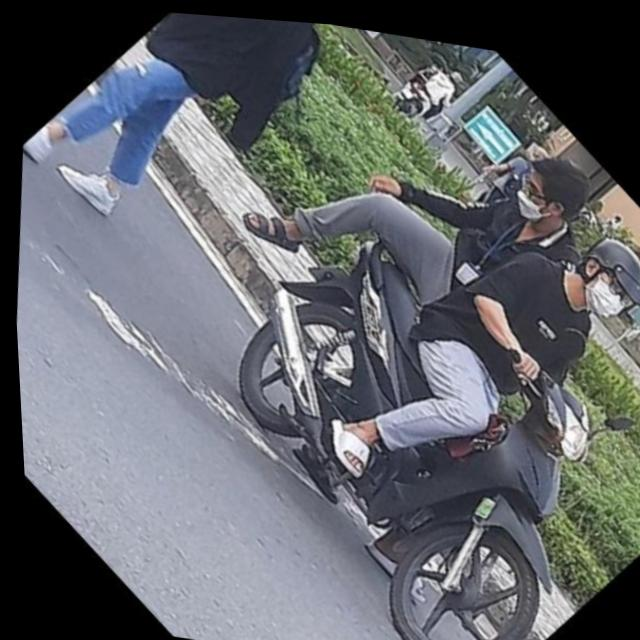WITH_HELMET: (551, 209, 640, 322)
